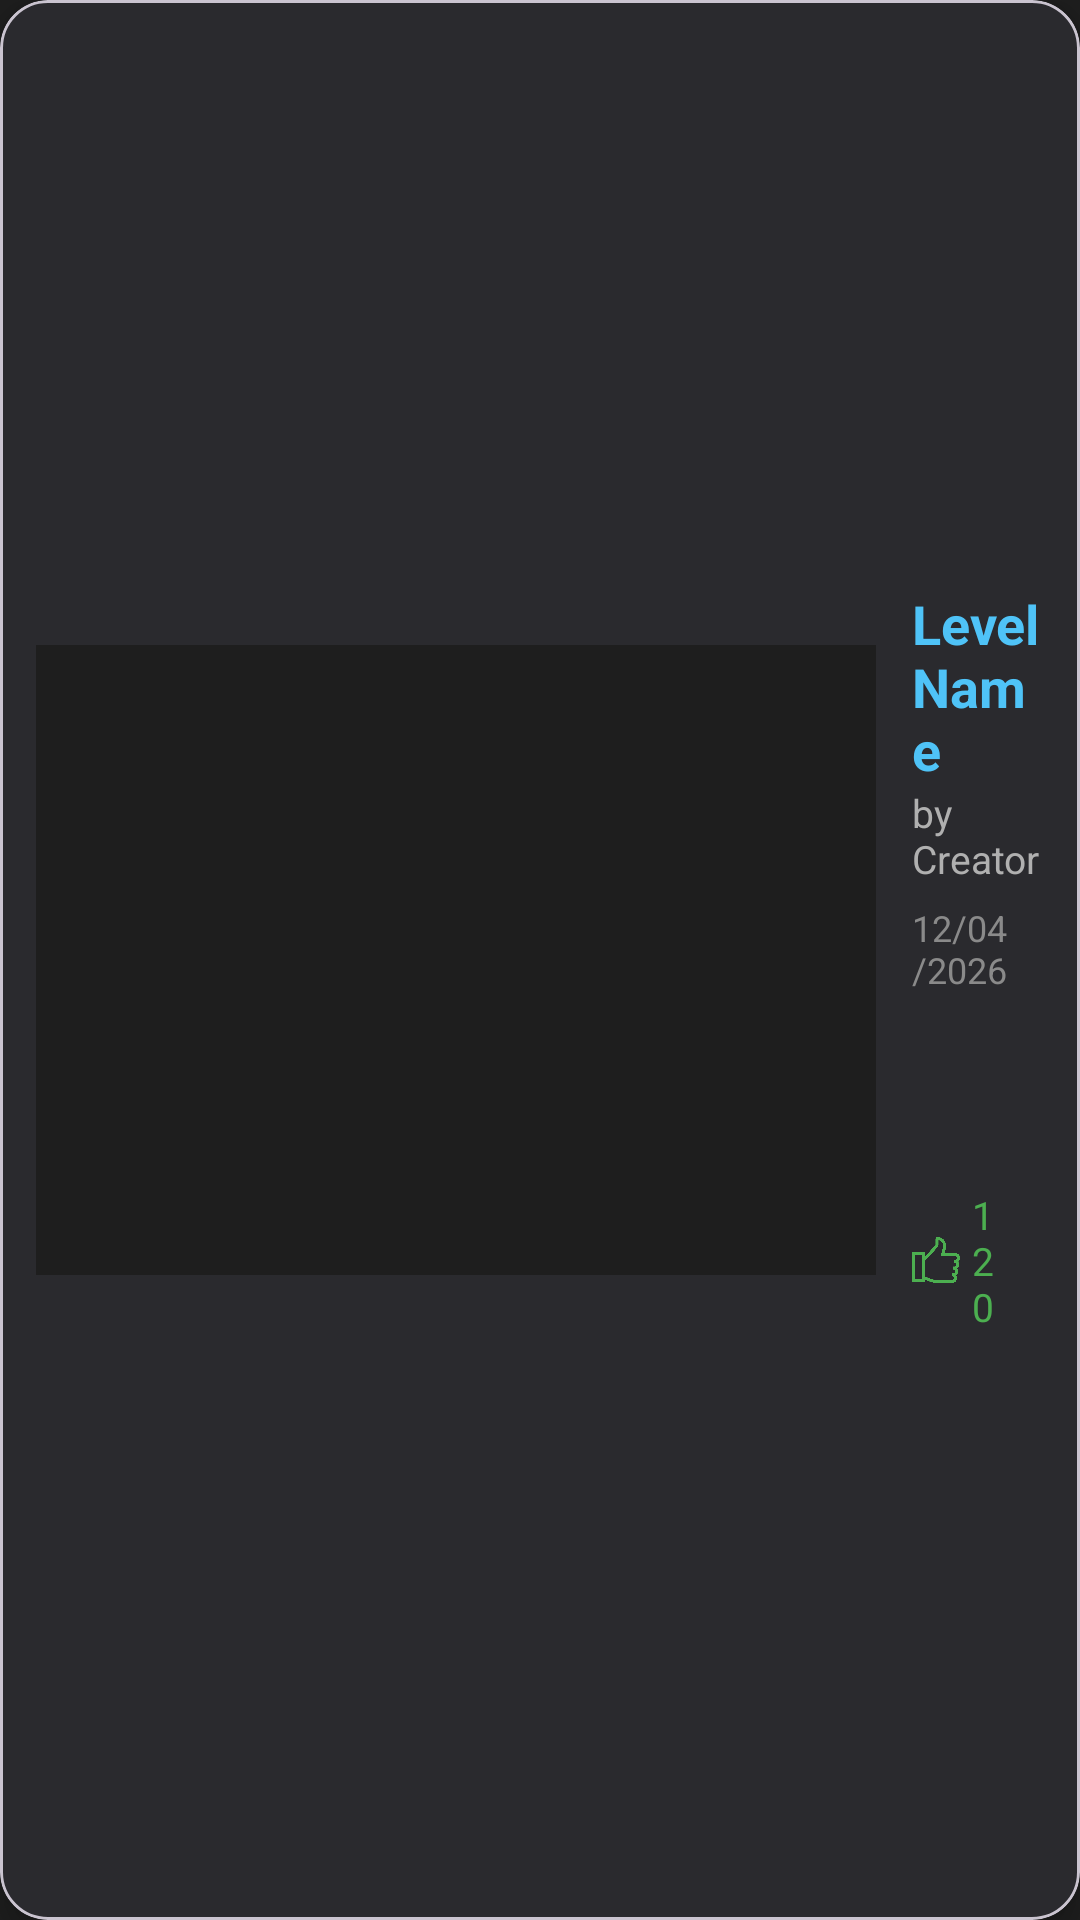

Icons on this 1080px x 1920px Android screen, each with its box as bbox(x1, y1, x2, y2):
thumb up: bbox(912, 1237, 960, 1283)
